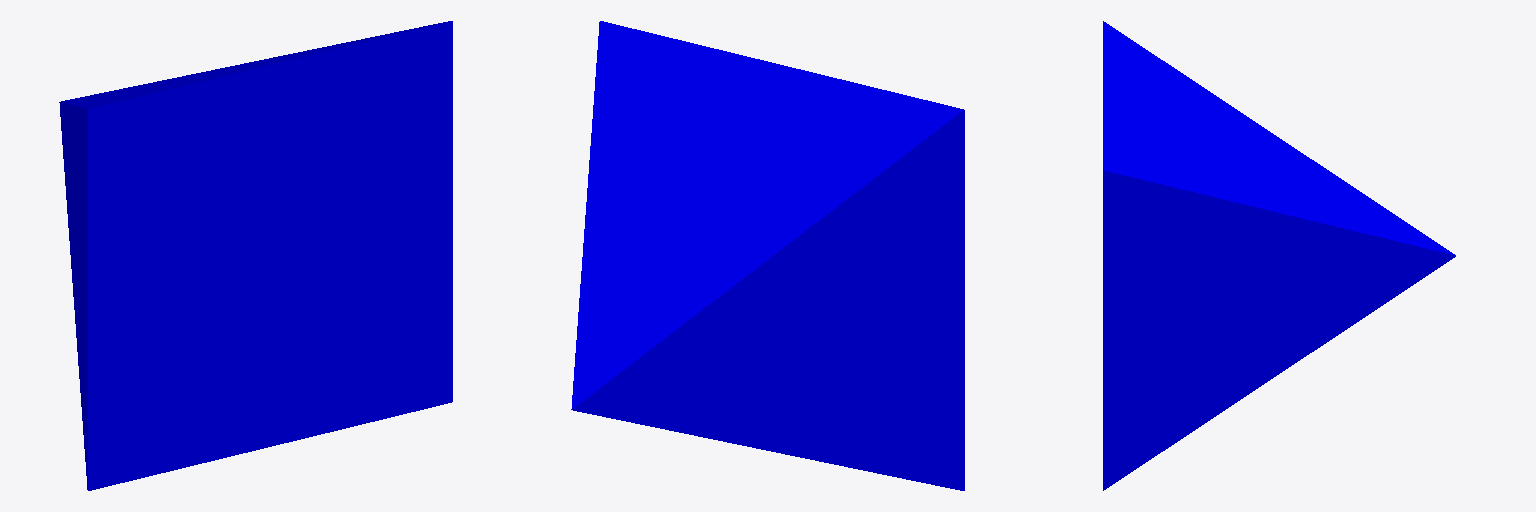
robot.urdf — pyramid:
<?xml version="1.0" ?>
<robot name="pyramid">
  <link name="baseLink">
    <contact>
      <lateral_friction value="1.0"/>
      <rolling_friction value="0.0"/>
      <contact_cfm value="0.0"/>
      <contact_erp value="1.0"/>
    </contact>
    <inertial>
      <origin rpy="0 0 0" xyz="0 0 0"/>
       <mass value="1.0"/>
       <inertia ixx="1" ixy="0" ixz="0" iyy="1" iyz="0" izz="1"/>
    </inertial>
    <visual>
      <origin rpy="0 0 0" xyz="0 0 0"/>
      <geometry>
				<mesh filename="pyramid.obj" scale="0.5 0.5 0.5"/>
      </geometry>
       <material name="blue">
        <color rgba="0 0 1 1"/>
      </material>
    </visual>
    <collision>
      <origin rpy="0 0 0" xyz="0 0 0"/>
      <geometry>
	 	<mesh filename="pyramid.obj" scale="0.5 0.5 0.5"/>
      </geometry>
    </collision>
  </link>
</robot>

--- Render facts (derived) ---
Views: 3 orthographic renders of the robot side by side, from view 1: azimuth 30°, elevation 25°; view 2: azimuth 150°, elevation 25°; view 3: azimuth 270°, elevation 25°.
Model pyramid with 1 links and 0 joints (none), rooted at baseLink, posed every joint at zero.
Visible links, largest first — view 1: baseLink; view 2: baseLink; view 3: baseLink.
Boxes of the visible links, left/top/right/bottom form: baseLink: left=59, top=21, right=452, bottom=490; baseLink: left=571, top=21, right=964, bottom=490; baseLink: left=1103, top=21, right=1455, bottom=490.
Bounding box of the posed robot: 1 × 1 × 1 m (x, y, z).
Meshes: 1 distinct files referenced, 1 mesh visuals loaded (1 OBJ).